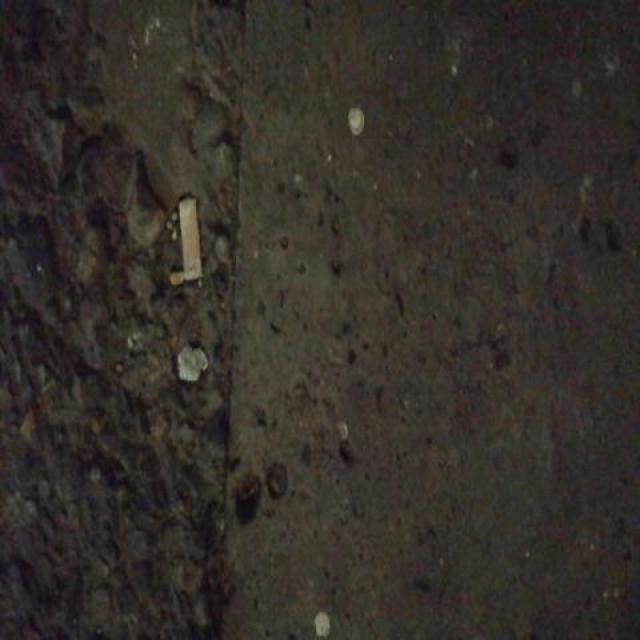non-organic waste: (175, 190, 208, 286)
